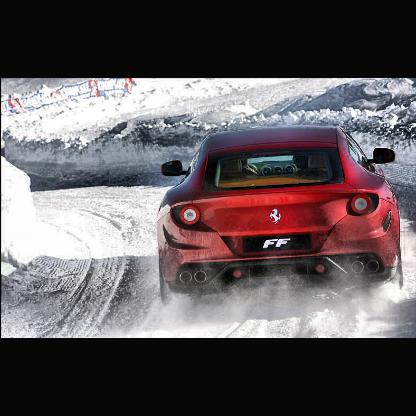Ferrari FF Coupe 2012: (158, 124, 401, 305)
